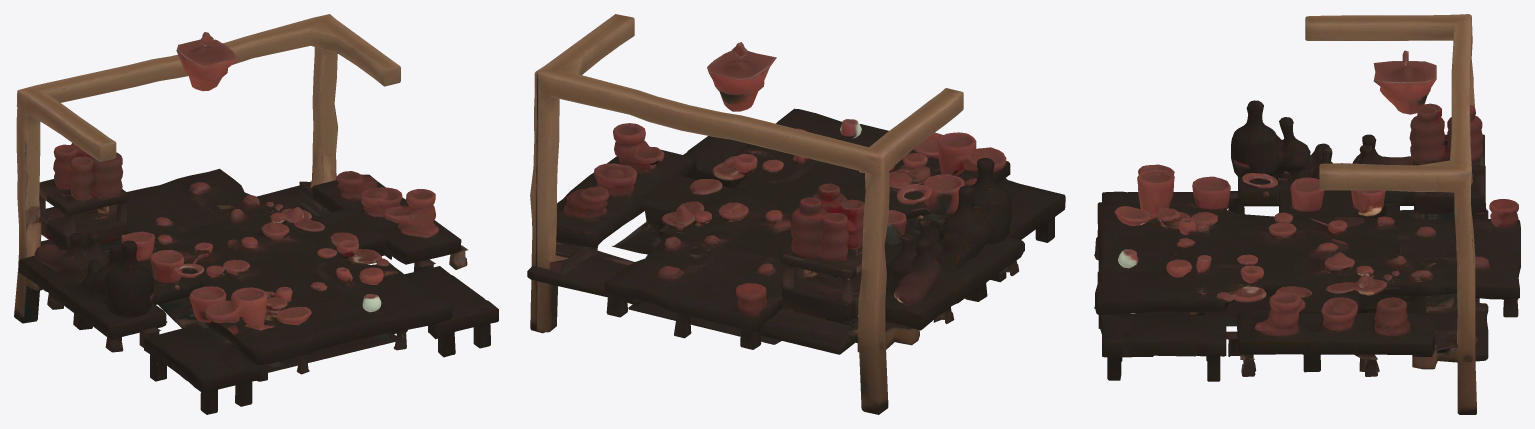
Rendered from banquet-table.opt.glb.
3 views of the same model, side by side, from view 1: azimuth 30°, elevation 25°; view 2: azimuth 150°, elevation 25°; view 3: azimuth 270°, elevation 25° (orthographic). The views are drawn at different scales.
Bounding box in the file's own units: 1.95 × 1.41 × 1.91.
1 material, 1 textured.
